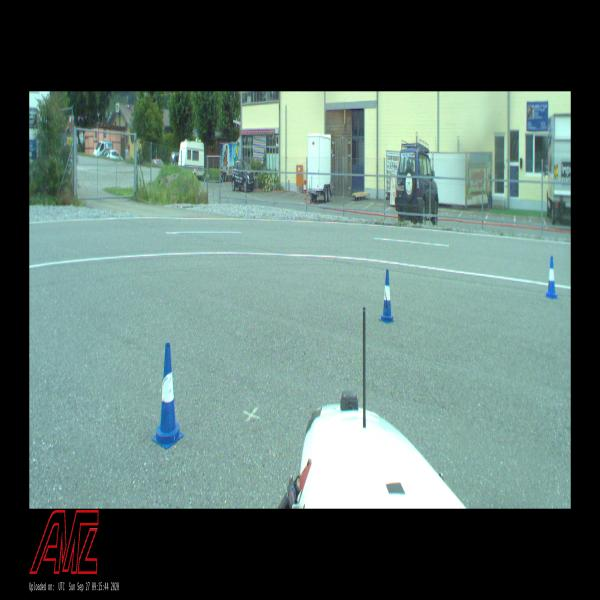blue_cone: (153, 342, 183, 450), (378, 268, 395, 324), (546, 255, 558, 300)
